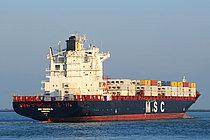Ship: (9, 28, 204, 126)
